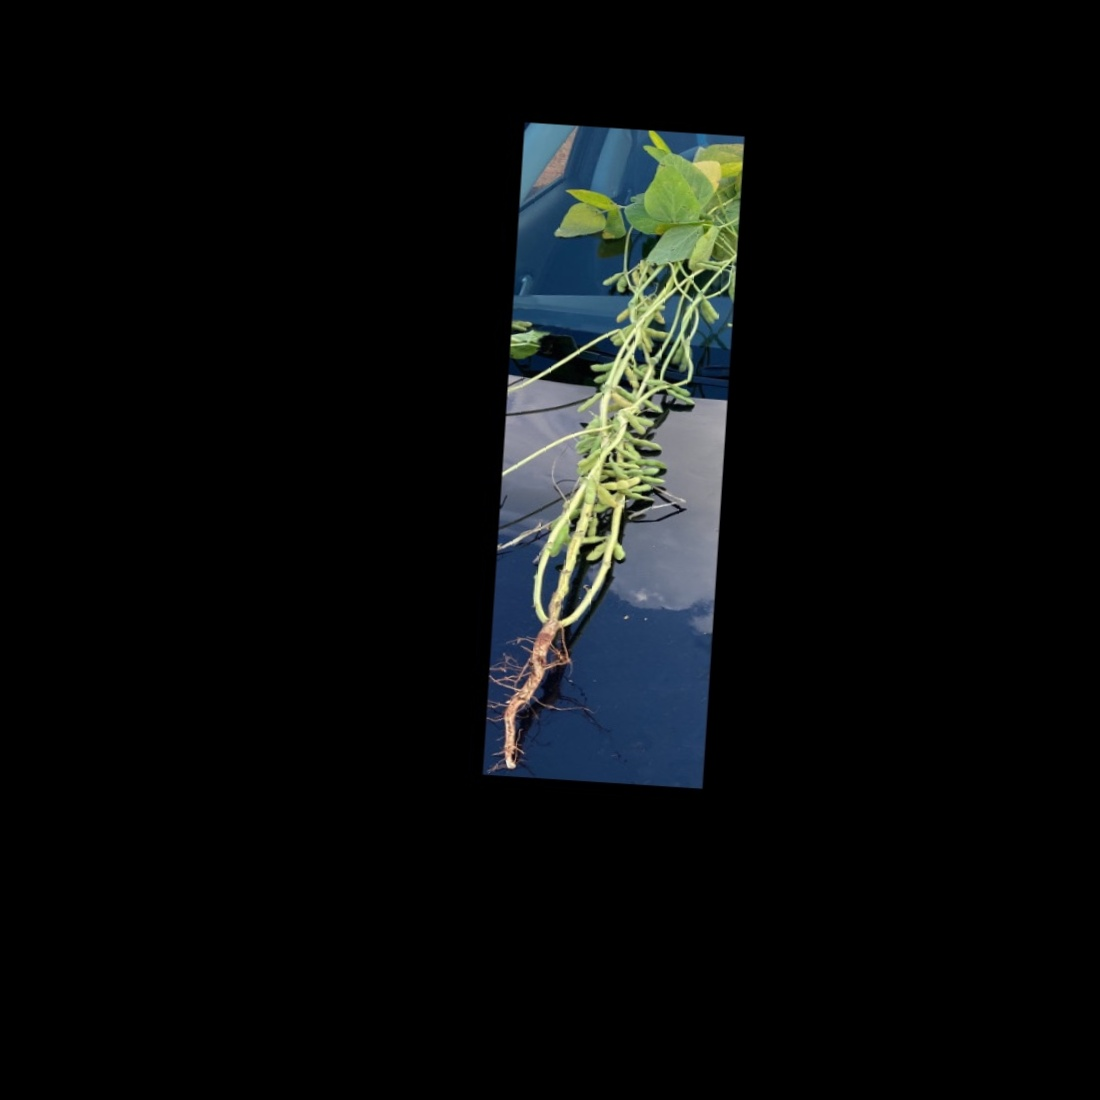pod: (597, 471, 641, 492), (572, 388, 601, 415), (582, 539, 612, 565), (622, 436, 664, 453), (624, 411, 651, 437), (618, 361, 642, 391), (699, 294, 722, 323), (601, 266, 627, 289), (611, 270, 629, 295), (643, 326, 674, 339)
soy: (485, 128, 738, 772)
